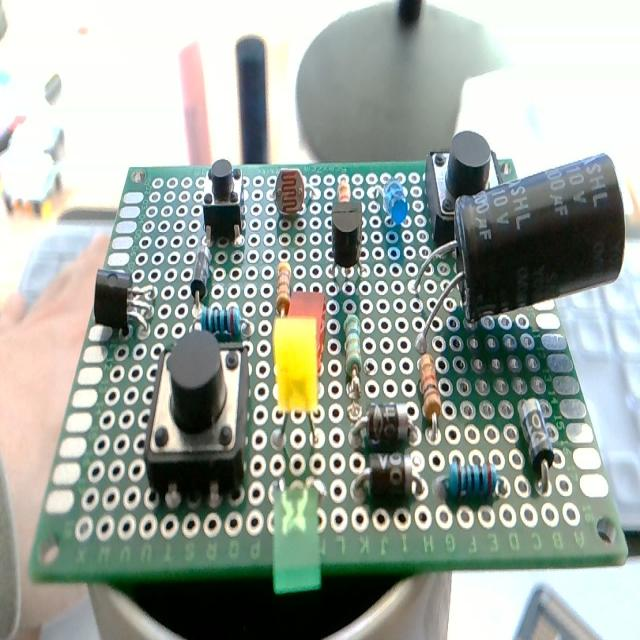Electrolytic capacitor: (414, 152, 628, 359)
cds: (266, 164, 320, 230)
diode: (351, 448, 427, 509), (353, 394, 421, 456), (516, 386, 554, 488), (185, 236, 217, 300)
led: (373, 165, 421, 233)
resistor: (436, 455, 502, 509), (418, 341, 448, 459), (339, 308, 373, 404), (185, 300, 253, 340), (270, 252, 294, 328)
switch: (145, 334, 255, 496), (197, 156, 250, 252)
transistor: (90, 258, 158, 346), (324, 193, 370, 296)
